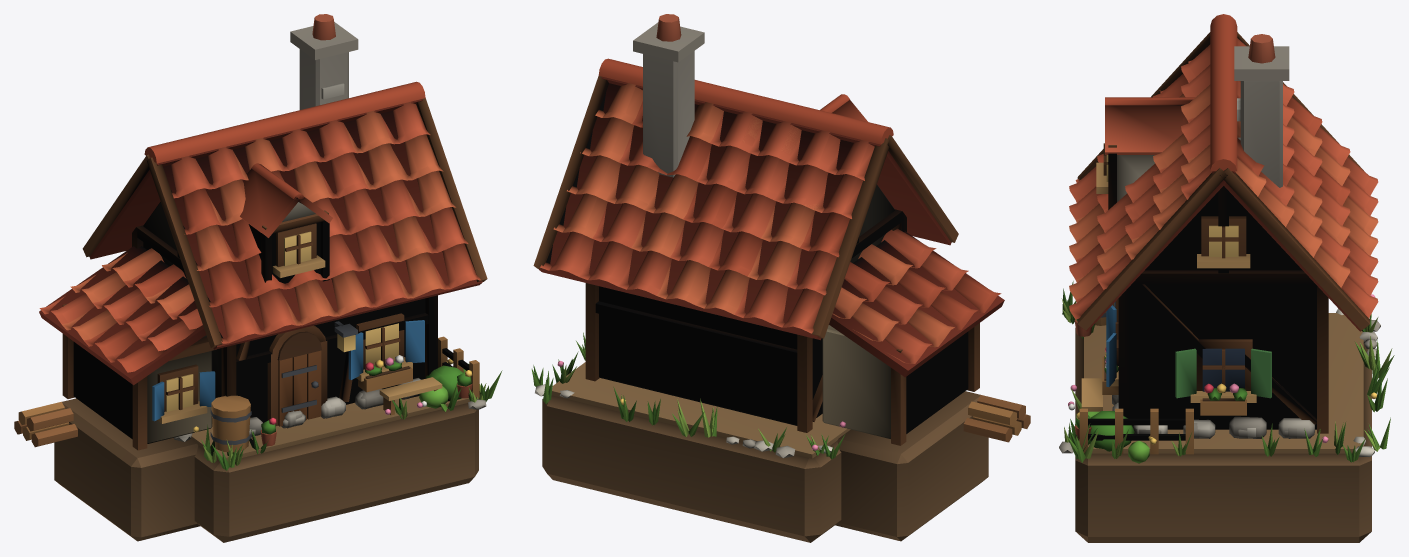
File: house.glb
3 views of the same model, side by side, from view 1: azimuth 30°, elevation 25°; view 2: azimuth 150°, elevation 25°; view 3: azimuth 270°, elevation 25° (orthographic). The views are drawn at different scales.
Parts seen in each view (by area): view 1: house_l1, house_l2, house_l3; view 2: house_l1, house_l2, house_l3; view 3: house_l1, house_l3, house_l2.
Part boxes in pixels (bbox=[...]): house_l1: bbox=[82, 14, 487, 542]; house_l2: bbox=[14, 85, 502, 541]; house_l3: bbox=[204, 83, 486, 460]; house_l1: bbox=[533, 14, 958, 542]; house_l2: bbox=[543, 116, 1030, 541]; house_l3: bbox=[531, 94, 867, 459]; house_l1: bbox=[1059, 14, 1394, 542]; house_l3: bbox=[1064, 97, 1389, 462]; house_l2: bbox=[1061, 98, 1390, 463].
Size of the model in its own units: 1.23 by 1.22 by 0.7924.
